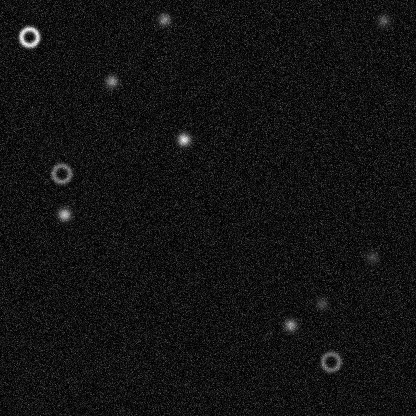Ring: (49, 161, 73, 185), (318, 349, 342, 373), (17, 24, 41, 48)
Spot: (375, 12, 391, 28), (56, 206, 72, 222), (282, 316, 298, 332), (156, 11, 172, 27), (175, 131, 191, 147), (364, 249, 380, 265), (313, 295, 329, 311), (103, 73, 119, 89)
